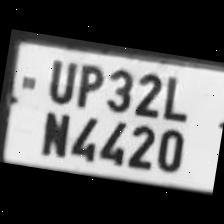0: (152, 119, 192, 174)
2: (128, 64, 167, 119), (121, 117, 158, 170)
3: (100, 60, 136, 113)
4: (66, 108, 104, 162), (94, 111, 132, 164)
L: (156, 68, 197, 124)
N: (33, 103, 74, 159)
P: (70, 58, 108, 110)
U: (40, 52, 80, 106)
